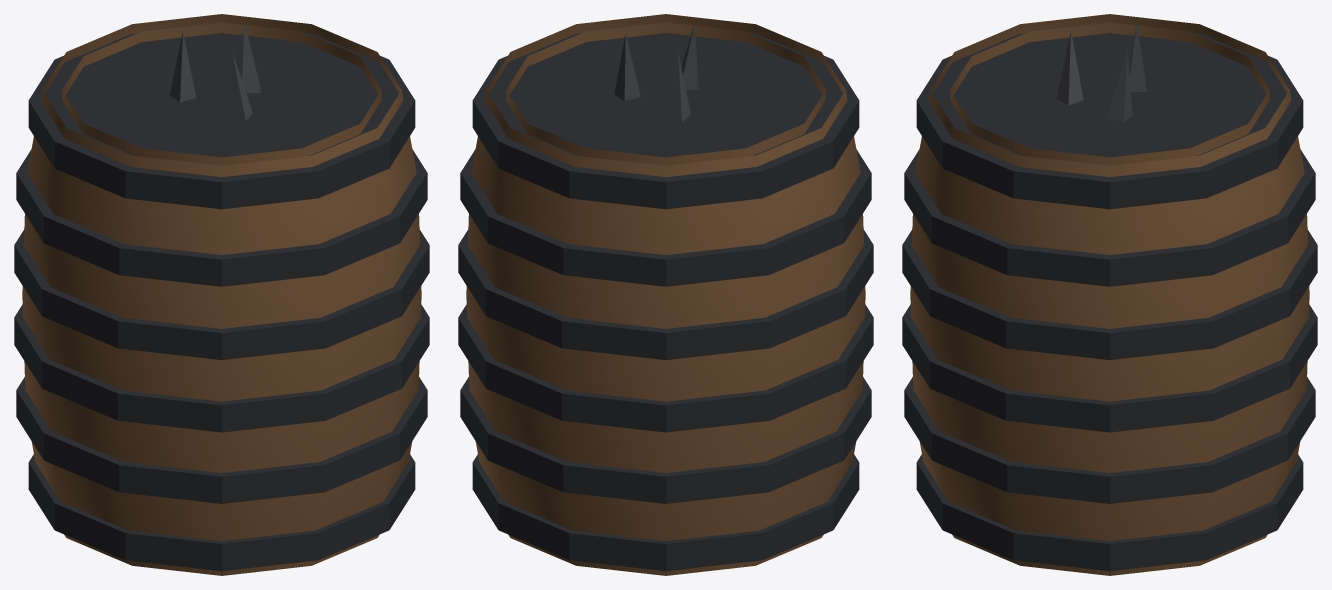
The model's file is SM_Barrel_Keep_03_Open.glb.
The picture shows the model from 3 angles, left to right: view 1: azimuth 30°, elevation 25°; view 2: azimuth 150°, elevation 25°; view 3: azimuth 270°, elevation 25°; orthographic projection.
Parts seen in each view (by area): view 1: SM_Barrel_Keep_03_Open_Body, SM_Barrel_Keep_03_Open_Band5, SM_Barrel_Keep_03_Open_Band4, SM_Barrel_Keep_03_Open_Band3, SM_Barrel_Keep_03_Open_Band2, SM_Barrel_Keep_03_Open_Band1, SM_Barrel_Keep_03_Open_Band0, SM_Barrel_Keep_03_Open_PikeHead1, SM_Barrel_Keep_03_Open_PikeHead2, SM_Barrel_Keep_03_Open_PikeHead0; view 2: SM_Barrel_Keep_03_Open_Body, SM_Barrel_Keep_03_Open_Band5, SM_Barrel_Keep_03_Open_Band4, SM_Barrel_Keep_03_Open_Band3, SM_Barrel_Keep_03_Open_Band2, SM_Barrel_Keep_03_Open_Band1, SM_Barrel_Keep_03_Open_Band0, SM_Barrel_Keep_03_Open_PikeHead1, SM_Barrel_Keep_03_Open_PikeHead0, SM_Barrel_Keep_03_Open_PikeHead2; view 3: SM_Barrel_Keep_03_Open_Body, SM_Barrel_Keep_03_Open_Band5, SM_Barrel_Keep_03_Open_Band4, SM_Barrel_Keep_03_Open_Band3, SM_Barrel_Keep_03_Open_Band2, SM_Barrel_Keep_03_Open_Band1, SM_Barrel_Keep_03_Open_Band0, SM_Barrel_Keep_03_Open_PikeHead2, SM_Barrel_Keep_03_Open_PikeHead0, SM_Barrel_Keep_03_Open_PikeHead1.
Boxes of the visible parts, x1,y1,x2,y2 form: SM_Barrel_Keep_03_Open_Body: [22, 14, 421, 575]; SM_Barrel_Keep_03_Open_Band5: [28, 33, 415, 209]; SM_Barrel_Keep_03_Open_Band4: [16, 149, 427, 286]; SM_Barrel_Keep_03_Open_Band3: [14, 229, 429, 359]; SM_Barrel_Keep_03_Open_Band2: [14, 304, 429, 432]; SM_Barrel_Keep_03_Open_Band1: [16, 377, 427, 503]; SM_Barrel_Keep_03_Open_Band0: [28, 454, 415, 571]; SM_Barrel_Keep_03_Open_PikeHead1: [169, 32, 196, 102]; SM_Barrel_Keep_03_Open_PikeHead2: [227, 51, 252, 120]; SM_Barrel_Keep_03_Open_PikeHead0: [241, 21, 261, 92]; SM_Barrel_Keep_03_Open_Body: [466, 14, 865, 575]; SM_Barrel_Keep_03_Open_Band5: [472, 33, 859, 209]; SM_Barrel_Keep_03_Open_Band4: [460, 149, 871, 286]; SM_Barrel_Keep_03_Open_Band3: [458, 229, 873, 359]; SM_Barrel_Keep_03_Open_Band2: [458, 304, 873, 432]; SM_Barrel_Keep_03_Open_Band1: [460, 377, 871, 503]; SM_Barrel_Keep_03_Open_Band0: [472, 454, 859, 571]; SM_Barrel_Keep_03_Open_PikeHead1: [665, 51, 690, 121]; SM_Barrel_Keep_03_Open_PikeHead0: [614, 34, 640, 101]; SM_Barrel_Keep_03_Open_PikeHead2: [681, 23, 698, 90]; SM_Barrel_Keep_03_Open_Body: [910, 14, 1309, 575]; SM_Barrel_Keep_03_Open_Band5: [916, 33, 1303, 209]; SM_Barrel_Keep_03_Open_Band4: [904, 149, 1315, 286]; SM_Barrel_Keep_03_Open_Band3: [902, 229, 1317, 359]; SM_Barrel_Keep_03_Open_Band2: [902, 304, 1317, 432]; SM_Barrel_Keep_03_Open_Band1: [904, 377, 1315, 503]; SM_Barrel_Keep_03_Open_Band0: [916, 454, 1303, 571]; SM_Barrel_Keep_03_Open_PikeHead2: [1056, 31, 1083, 105]; SM_Barrel_Keep_03_Open_PikeHead0: [1106, 50, 1132, 122]; SM_Barrel_Keep_03_Open_PikeHead1: [1129, 23, 1146, 92].
Size of the model in its own units: 0.6246 by 0.772 by 0.6246.
